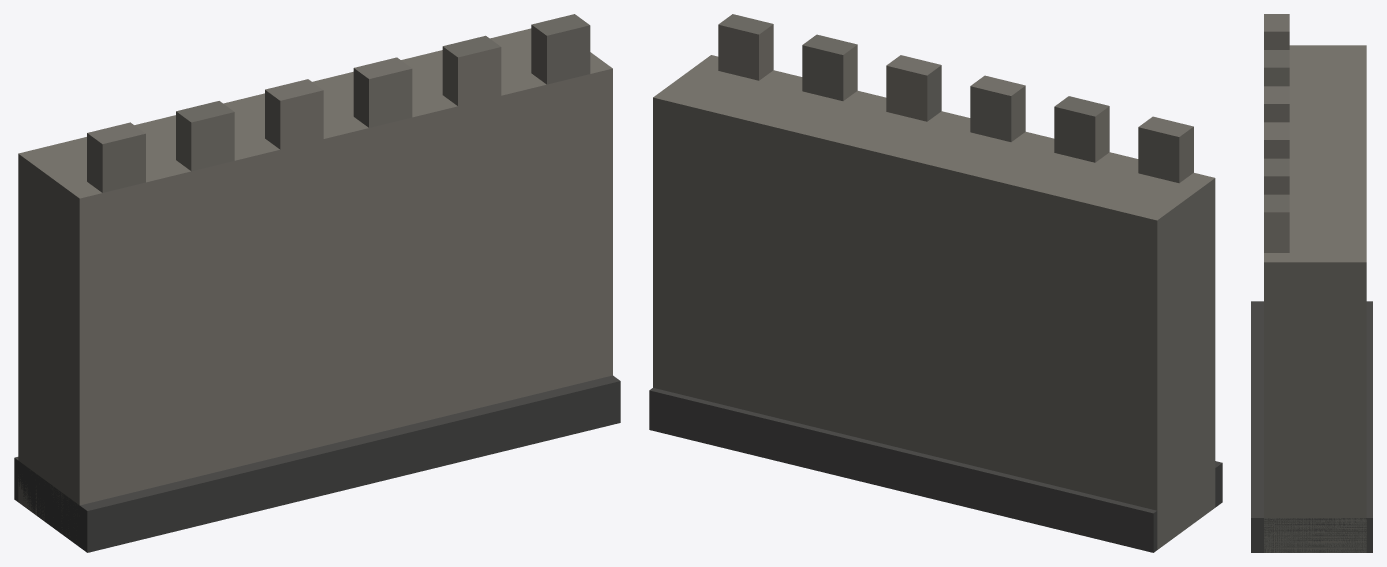
File: walk_hallowed_wall.glb
3 renders of one model, left to right at view 1: azimuth 30°, elevation 25°; view 2: azimuth 150°, elevation 25°; view 3: azimuth 270°, elevation 25°, orthographic. The views are drawn at different scales.
Visible parts, largest first — view 1: walk_hallowed_wall; view 2: walk_hallowed_wall; view 3: walk_hallowed_wall.
Boxes of the visible parts, x1,y1,x2,y2 form: walk_hallowed_wall: [14, 14, 620, 552]; walk_hallowed_wall: [649, 14, 1222, 552]; walk_hallowed_wall: [1251, 14, 1372, 552].
Size of what is drawn, in the model's own units: 8 by 5.7 by 1.9.
Materials: 1 (1 with a texture image).
